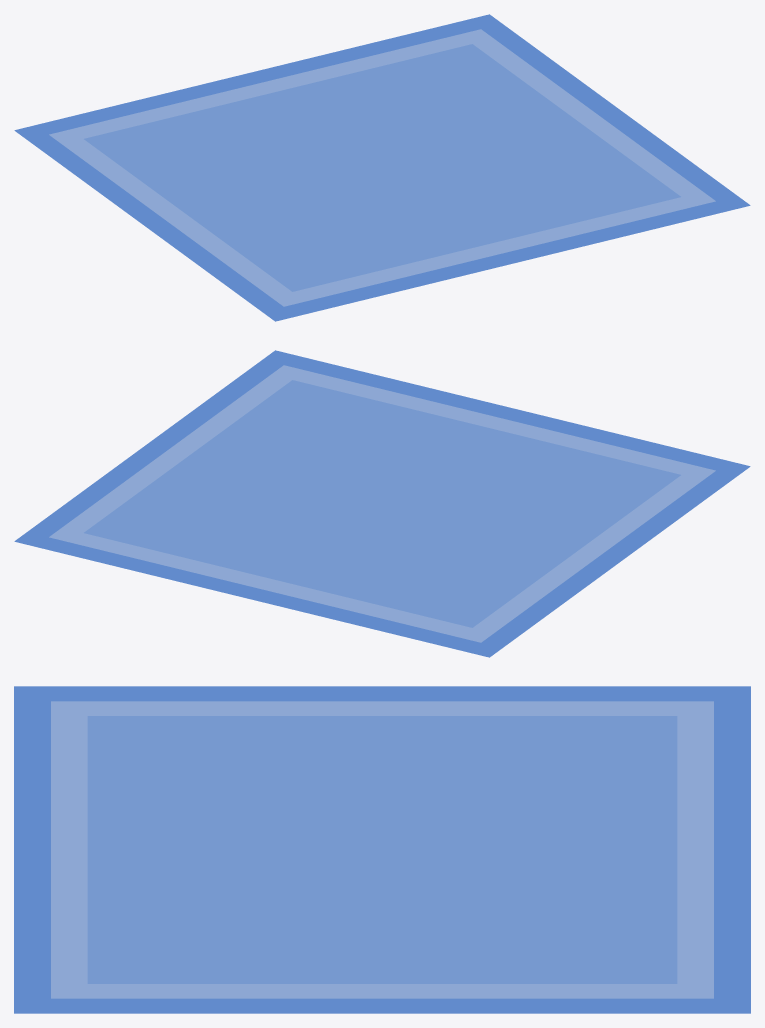
The model's file is Alfombra03.fbx.
The picture shows the model from 3 angles, top to bottom: view 1: azimuth 30°, elevation 25°; view 2: azimuth 150°, elevation 25°; view 3: azimuth 270°, elevation 25°; orthographic projection. The views are drawn at different scales.
Parts seen in each view (by area): view 1: Alfombra03; view 2: Alfombra03; view 3: Alfombra03.
Part boxes in pixels (<box>): Alfombra03: <box>14,14,750,321</box>; Alfombra03: <box>14,350,750,657</box>; Alfombra03: <box>14,686,750,1013</box>.
Bounding box in the file's own units: 265 × 0 × 252.
